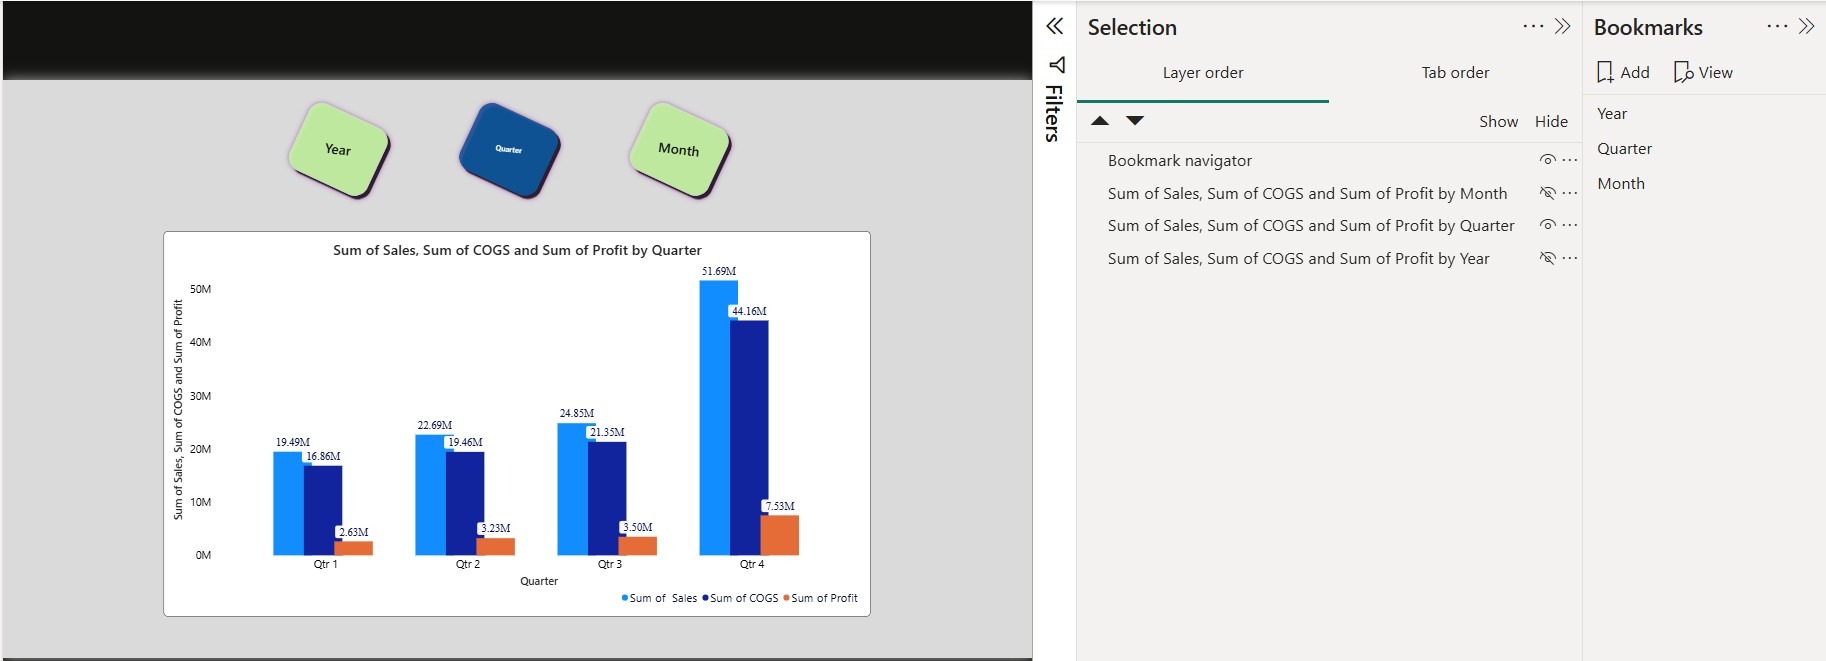

This screenshot's page, from the dashboard's own definition file:
{"tool":"powerbi","page":{"name":"Q6. Book mark","canvas":[1920,1080],"ordinal":5},"visuals":[{"type":"clusteredColumnChart","fields":{"Category":["financials.Date.Variation.Date Hierarchy.Quarter"],"Y":["Sum(financials. Sales)","Sum(financials.COGS)","Sum(financials.Profit)"]},"box":[299.2,281.2,1319.5,719],"z":1000},{"type":"bookmarkNavigator","box":[467.9,24.1,952,208.9],"z":3000}]}

Visuals, with their boxes on the page's 1920x1080 design canvas (x1, y1, x2, y2). These are canvas units, not pixel positions in the 1826x661 screenshot, which may show the page scaled, cropped or inside an application window:
clusteredColumnChart - financials.Date.Variation.Date Hierarchy.Quarter x Sum(financials. Sales): [x1=299, y1=281, x2=1619, y2=1000]
bookmarkNavigator: [x1=468, y1=24, x2=1420, y2=233]
